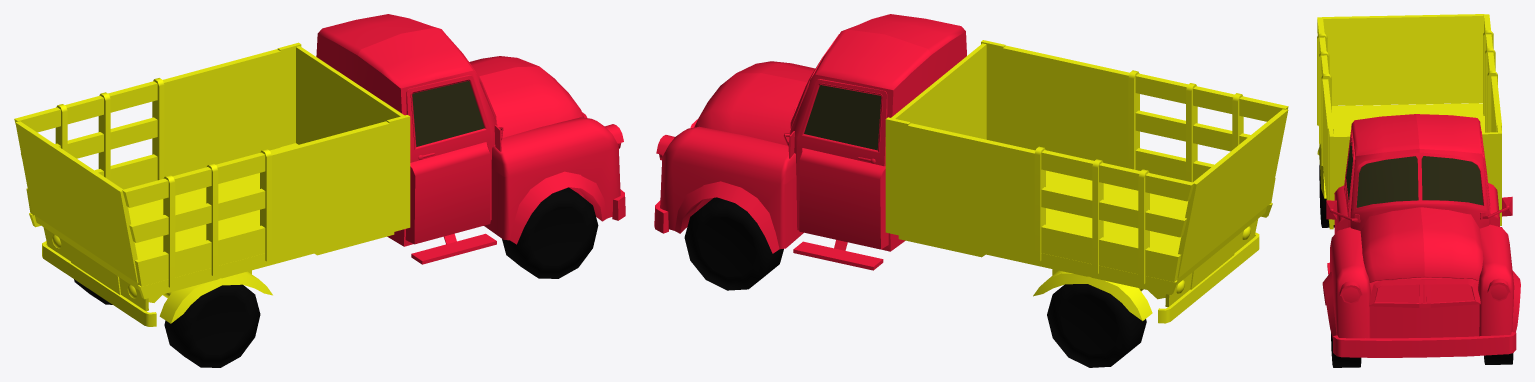
The model's file is truck-transformed.glb.
The picture shows the model from 3 angles, left to right: view 1: azimuth 30°, elevation 25°; view 2: azimuth 150°, elevation 25°; view 3: azimuth 270°, elevation 25°; orthographic projection. The views are drawn at different scales.
Parts seen in each view (by area): view 1: MM_Camion_ParteTrasera, MM_Camion_ParteDelantera, MM_Camion_RuedaDelantera01, MM_Camion_CristalParabrisas; view 2: MM_Camion_ParteTrasera, MM_Camion_ParteDelantera, MM_Camion_RuedaDelantera01, MM_Camion_CristalParabrisas; view 3: MM_Camion_ParteDelantera, MM_Camion_ParteTrasera, MM_Camion_CristalParabrisas, MM_Camion_RuedaDelantera01.
Part boxes in pixels (<box>): MM_Camion_ParteTrasera: <box>14,42,410,326</box>; MM_Camion_ParteDelantera: <box>316,14,625,264</box>; MM_Camion_RuedaDelantera01: <box>74,187,598,367</box>; MM_Camion_CristalParabrisas: <box>412,81,484,146</box>; MM_Camion_ParteTrasera: <box>885,40,1288,323</box>; MM_Camion_ParteDelantera: <box>654,14,966,270</box>; MM_Camion_RuedaDelantera01: <box>684,197,1146,367</box>; MM_Camion_CristalParabrisas: <box>804,85,881,150</box>; MM_Camion_ParteDelantera: <box>1322,114,1520,357</box>; MM_Camion_ParteTrasera: <box>1317,14,1501,229</box>; MM_Camion_CristalParabrisas: <box>1346,138,1483,207</box>; MM_Camion_RuedaDelantera01: <box>1319,164,1513,367</box>.
Size of the model in its own units: 0.0652 by 0.0276 by 0.0263.
